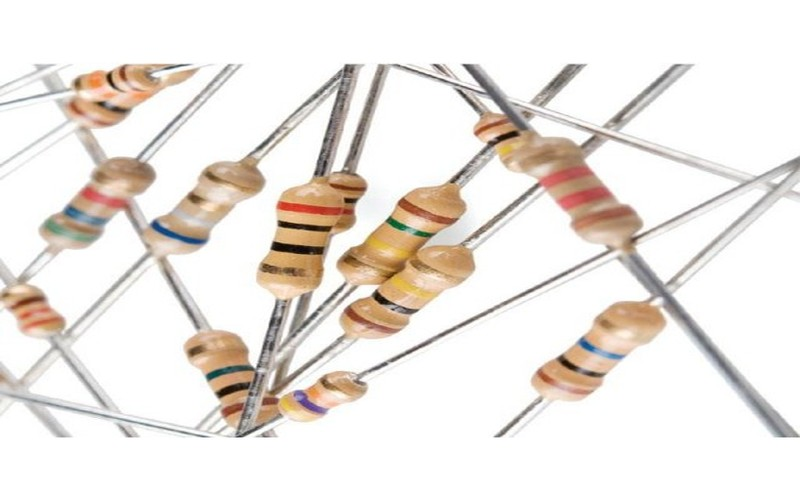Resistor: (1, 38, 272, 357), (455, 90, 672, 445), (247, 143, 466, 374), (184, 318, 381, 440)
